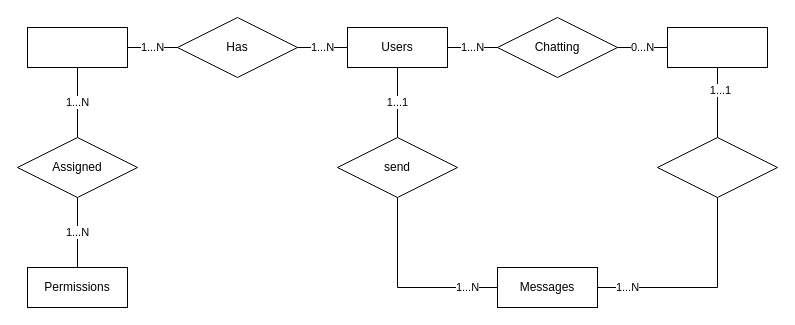
This 795x325 diagram has some shape labels left out. Here are the shapes that lost their labels. From the top down, the centre of each, then its label:
point 77,47: Roles
point 717,47: Conversations
point 717,167: Contains
